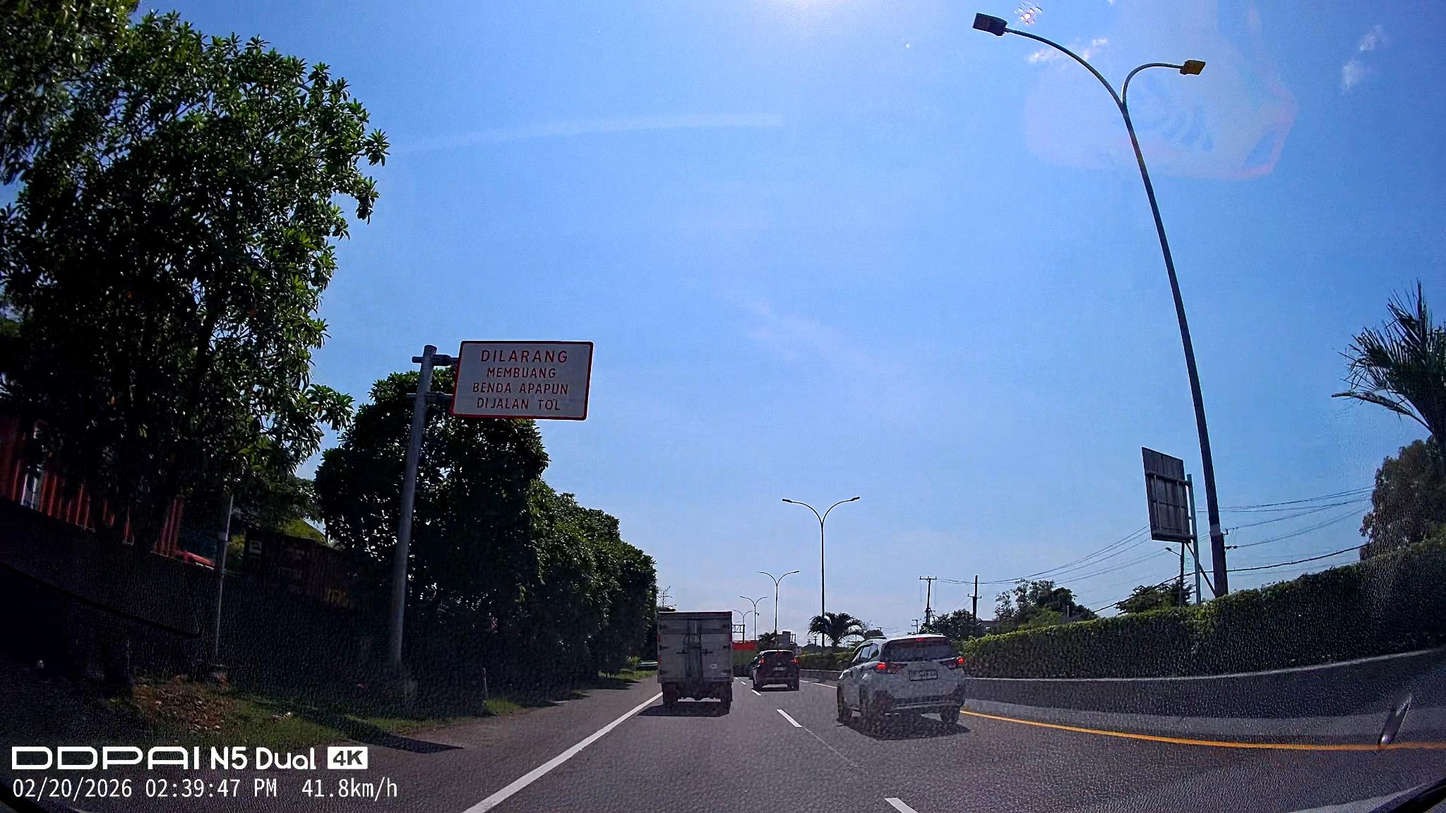rambu_teks: (449, 340, 595, 422)
